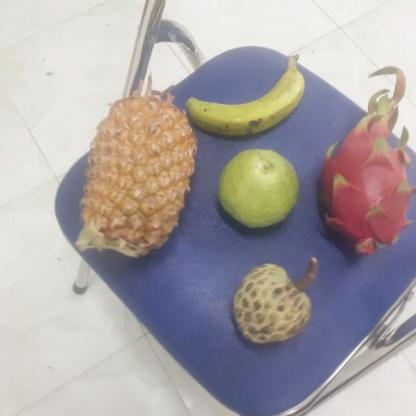annona: (227, 264, 312, 345)
banana: (185, 52, 301, 140)
guava: (214, 149, 298, 229)
pineapple: (78, 100, 194, 262)
pitaya: (312, 116, 416, 259)
